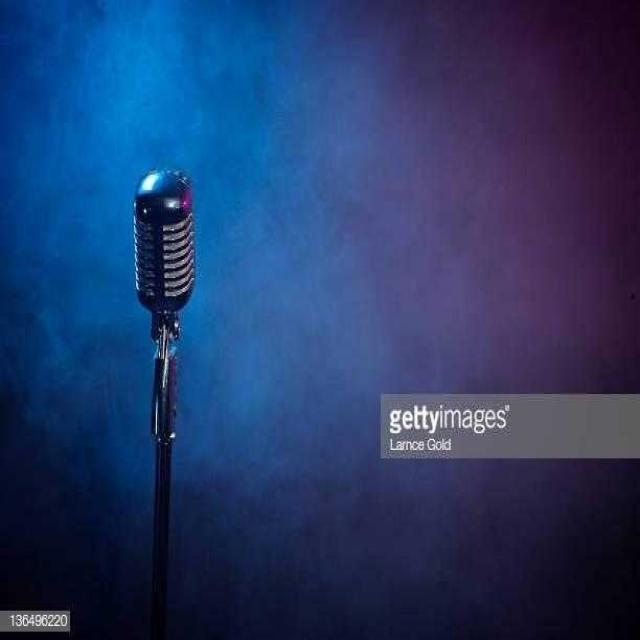microphone: (128, 159, 214, 453)
